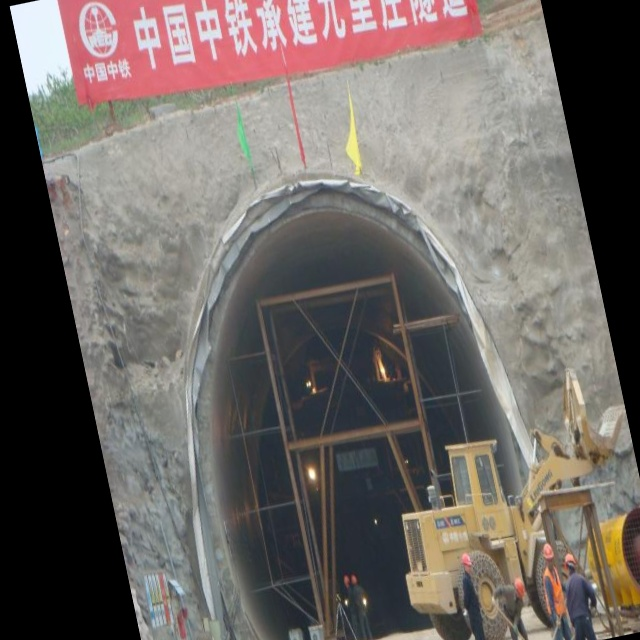Con_Casco: (512, 577, 528, 603), (541, 542, 556, 567)
Con_Chaleco: (539, 564, 568, 617), (639, 554, 640, 604)
Sin_Chaleco: (562, 569, 594, 622), (458, 572, 485, 626)
